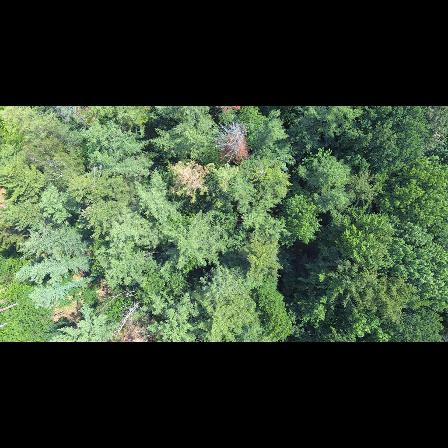Dead: (211, 120, 251, 166), (109, 294, 141, 341)
